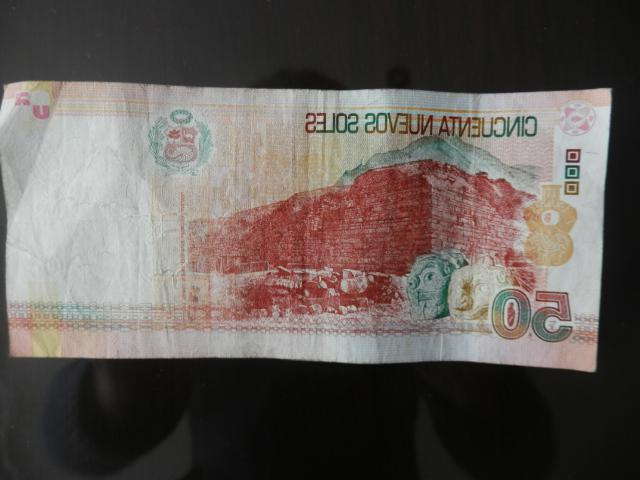B50: (2, 80, 613, 372)
